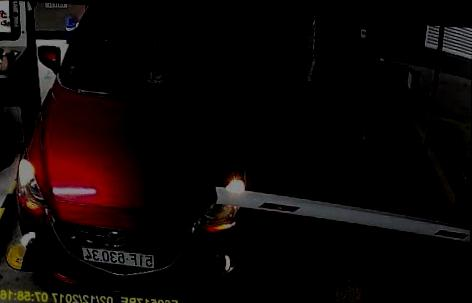License_Plate: (83, 244, 156, 273)
